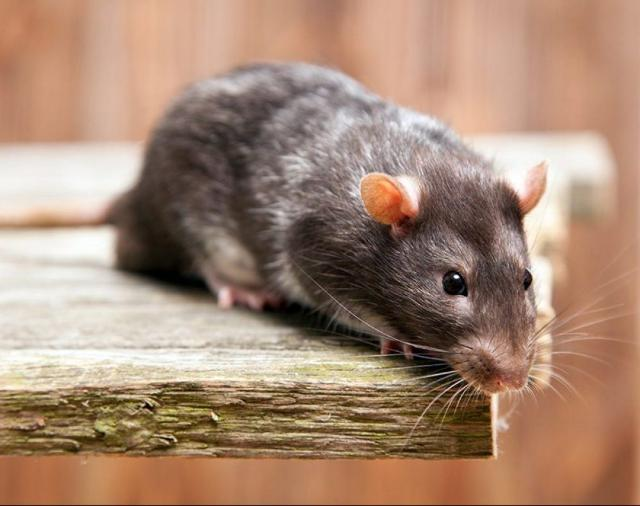rat: (100, 52, 568, 404)
